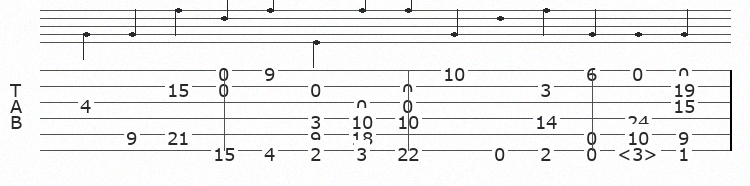0: (218, 78, 233, 95), (218, 62, 233, 79), (310, 78, 325, 95), (356, 94, 371, 111), (402, 78, 417, 95), (402, 94, 417, 111), (494, 142, 509, 159), (586, 142, 601, 159), (586, 126, 601, 143), (632, 62, 647, 79), (678, 62, 693, 79)
1: (678, 142, 693, 159)
10: (351, 110, 377, 127), (397, 110, 423, 127), (443, 62, 469, 79), (627, 126, 653, 143)
14: (535, 110, 561, 127)
15: (167, 78, 193, 95), (213, 142, 239, 159), (673, 94, 699, 111)
18: (351, 126, 377, 143)
19: (673, 78, 699, 95)
2: (310, 142, 325, 159), (540, 142, 555, 159)
21: (167, 126, 193, 143)
22: (397, 142, 423, 159)
24: (627, 110, 653, 127)
3: (310, 110, 325, 127), (356, 142, 371, 159), (540, 78, 555, 95)
4: (80, 94, 95, 111), (264, 142, 279, 159)
6: (586, 62, 601, 79)
9: (126, 126, 141, 143), (264, 62, 279, 79), (310, 126, 325, 143), (678, 126, 693, 143)
harmonic: (617, 142, 662, 159)
